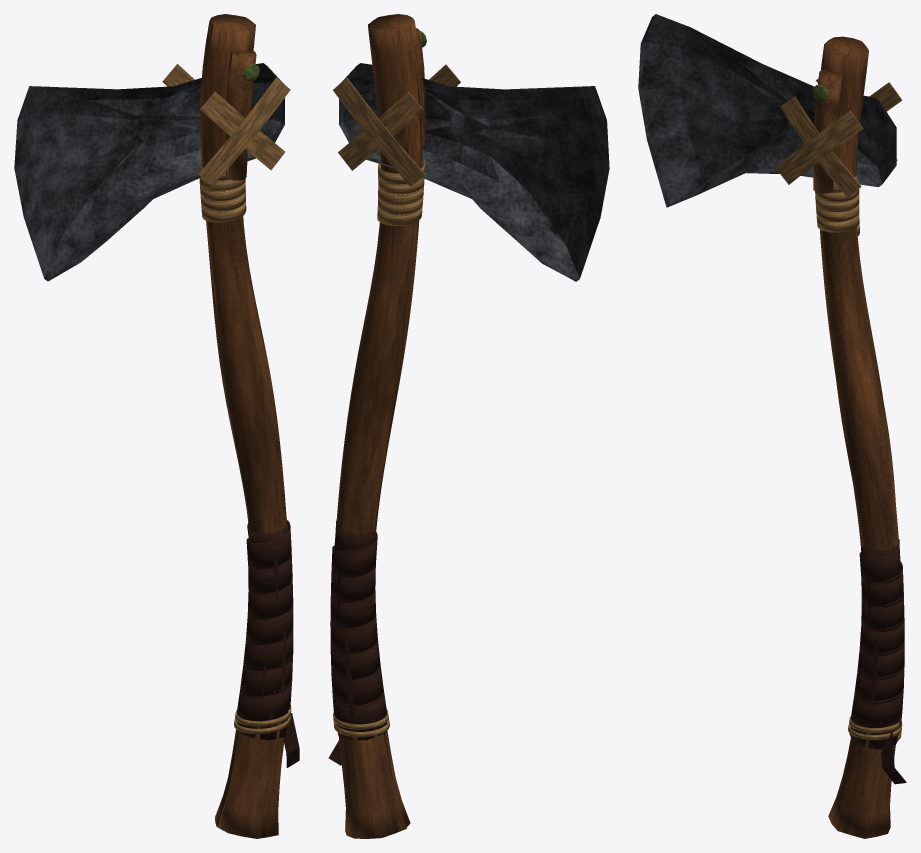
Rendered from stone_axe_lod0.glb.
3 renders of one model, left to right at view 1: azimuth 30°, elevation 25°; view 2: azimuth 150°, elevation 25°; view 3: azimuth 330°, elevation 25°, orthographic. The views are drawn at different scales.
Visible parts, largest first — view 1: stone_axe_stone, stone_axe_wood, stone_axe_leather, stone_axe_fiber; view 2: stone_axe_stone, stone_axe_wood, stone_axe_leather, stone_axe_fiber; view 3: stone_axe_stone, stone_axe_wood, stone_axe_leather, stone_axe_fiber.
Part boxes in pixels (x1,y1,x2,y2): stone_axe_stone: (14,63,284,281); stone_axe_wood: (200,14,286,838); stone_axe_leather: (236,519,299,767); stone_axe_fiber: (162,64,291,734); stone_axe_stone: (339,63,609,281); stone_axe_wood: (336,14,425,838); stone_axe_leather: (328,520,387,765); stone_axe_fiber: (333,64,460,737); stone_axe_stone: (638,14,896,207); stone_axe_wood: (813,36,898,838); stone_axe_leather: (849,539,906,784); stone_axe_fiber: (775,78,902,740).
Size of the model in its own units: 0.3025 by 0.8383 by 0.0881.
5 materials, 5 textured.
